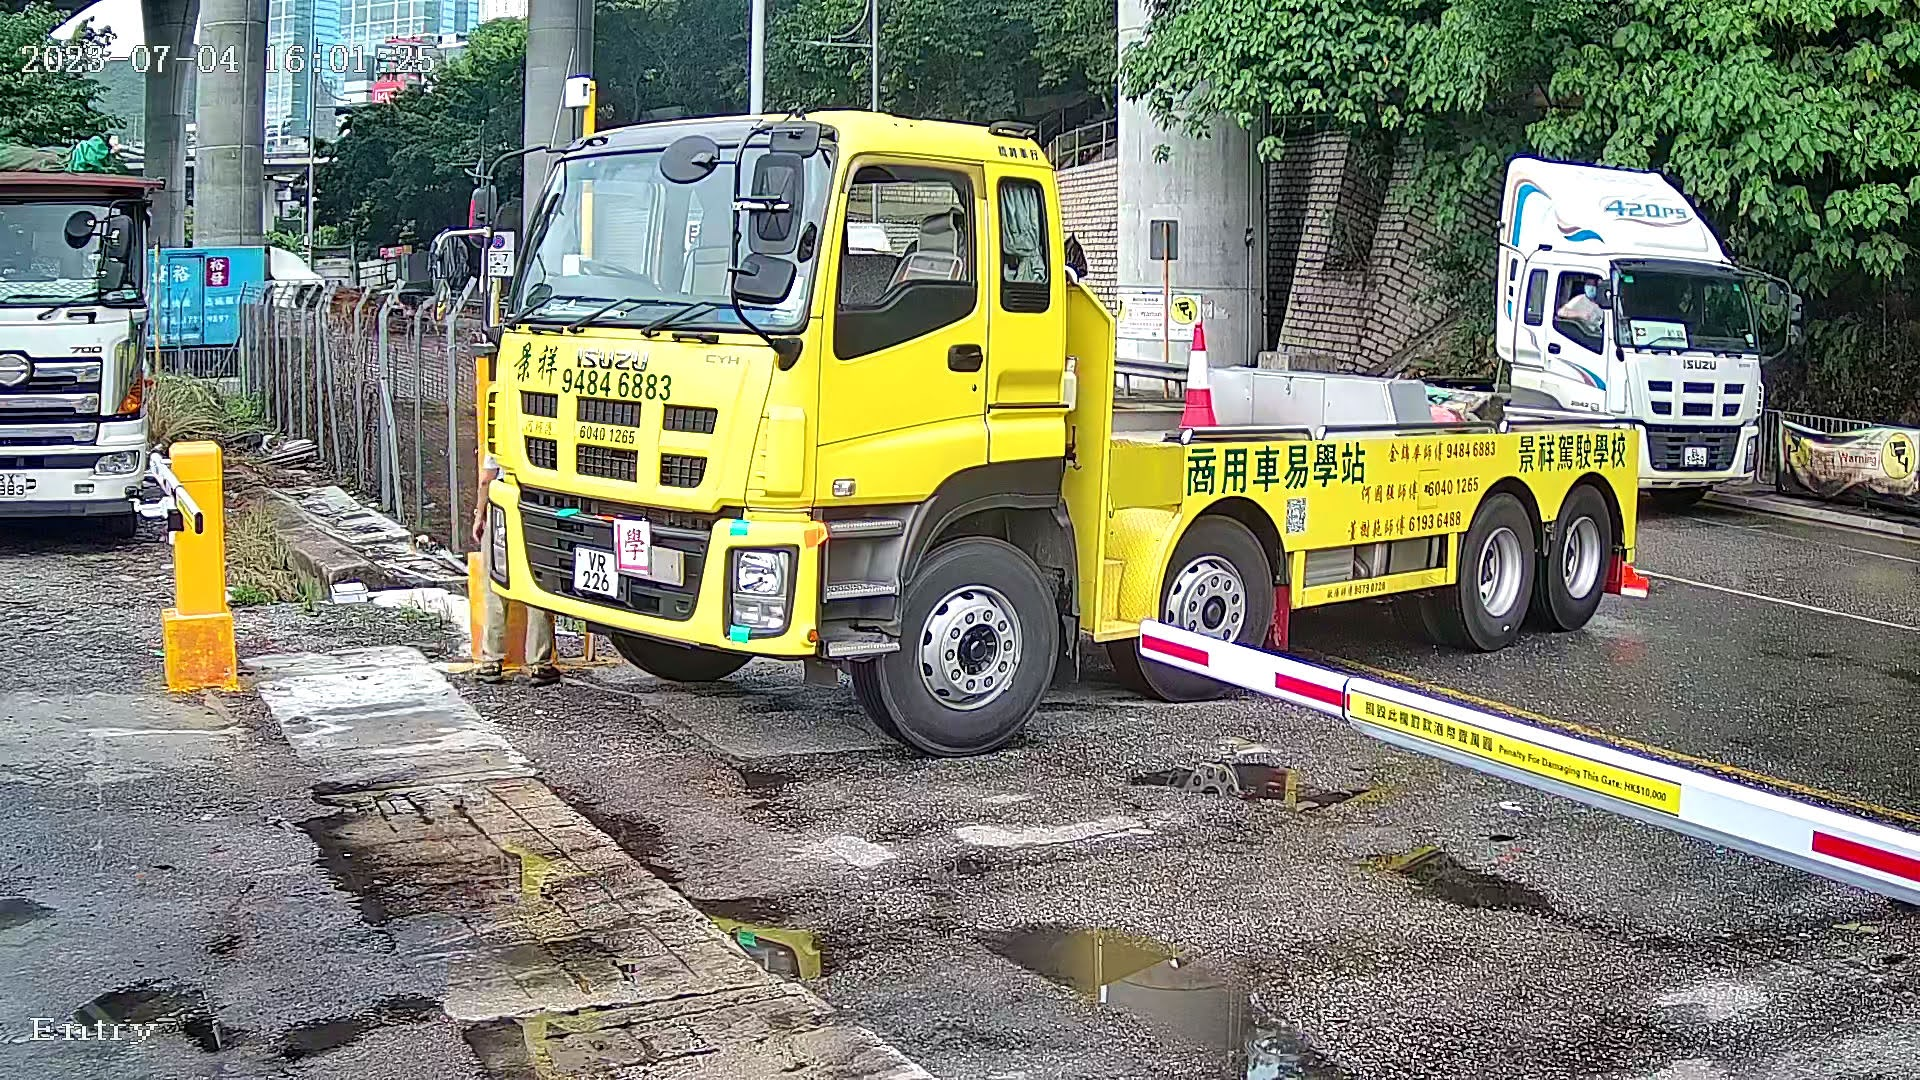truck_large: (455, 115, 1644, 737)
